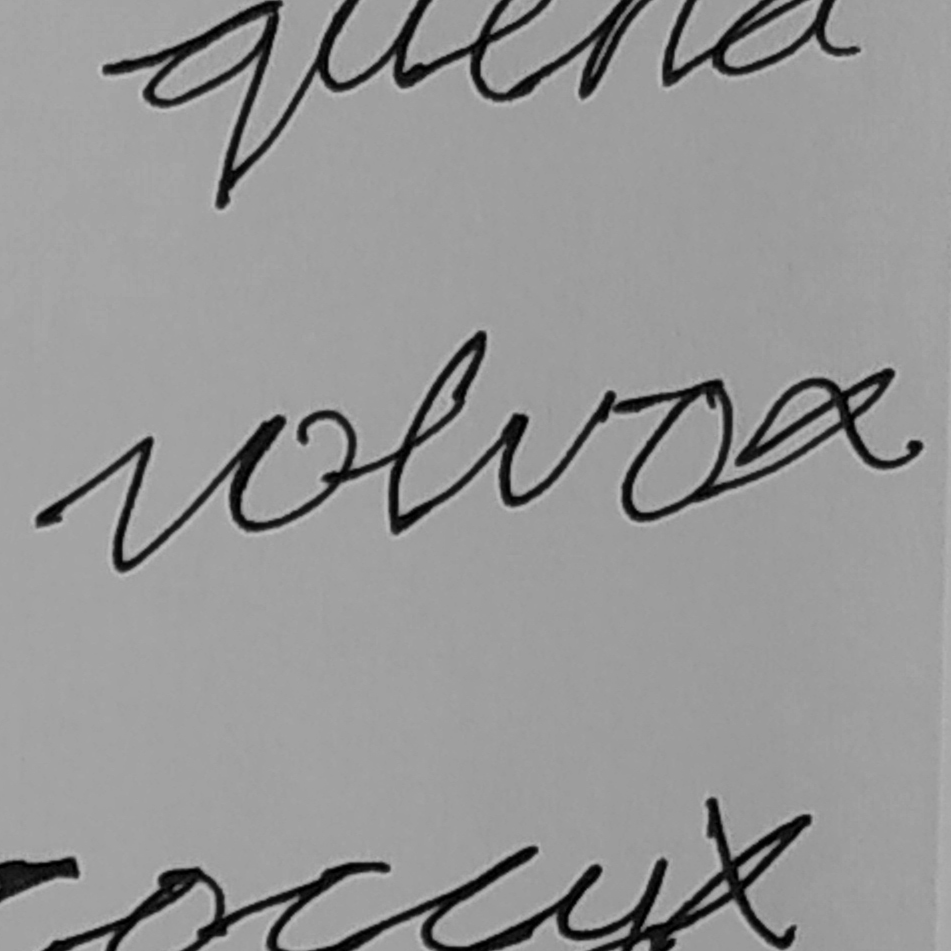l: (383, 324, 491, 536)
o: (223, 404, 360, 535), (621, 376, 737, 527)
v: (105, 411, 289, 578), (492, 387, 619, 511)
x: (738, 362, 929, 475)
